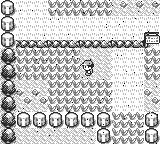captura: (17, 48, 113, 112), (48, 0, 112, 16), (112, 112, 145, 143), (144, 48, 160, 80)
leer: (144, 32, 160, 47)
main: (81, 60, 94, 76)
no-caminable: (17, 112, 112, 143), (1, 48, 16, 143), (1, 0, 16, 48), (145, 112, 159, 143)
salto: (17, 40, 143, 47)
